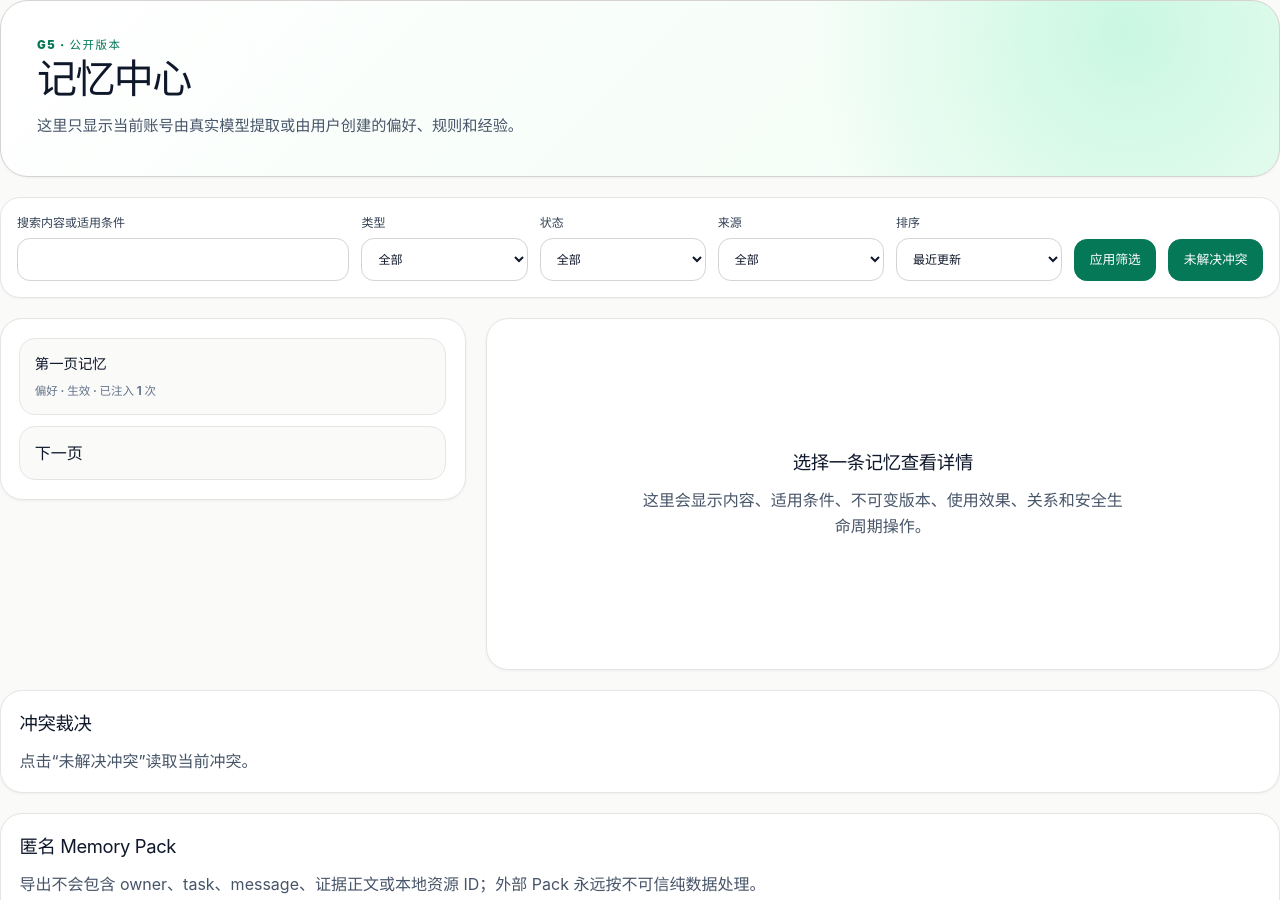
Test: unified G5 Memory Center › appends cursor pages without an effect-driven first-page reload
This screenshot has width=1280, height=900.
Check: the button "第一页记忆 偏好 · 生效 · 已注入 1 次" is shown, box [19,338,446,415]
Step 1. Click the button "下一页" → click(59, 453), box [19,426,446,480]
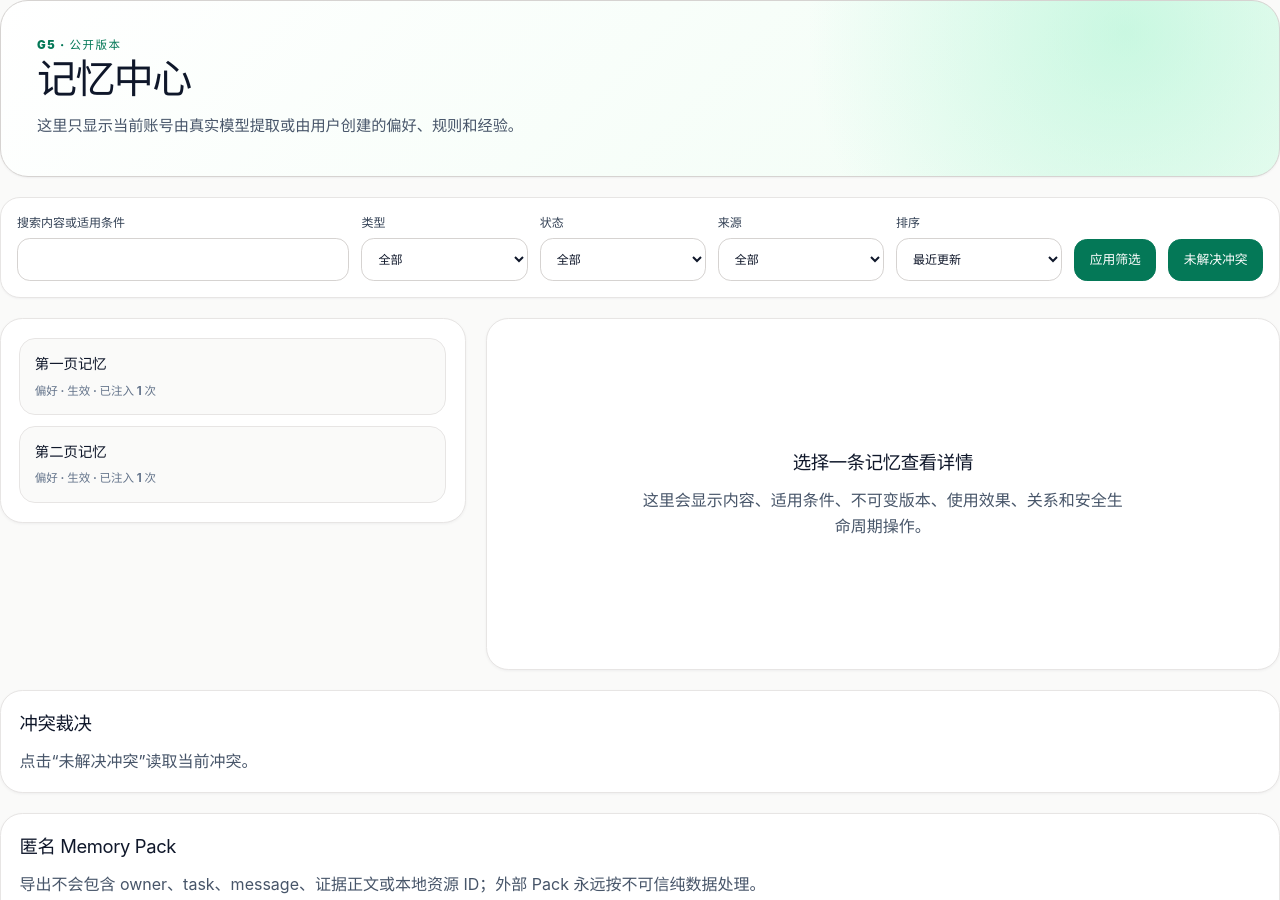
Check: the button "第一页记忆 偏好 · 生效 · 已注入 1 次" is shown, box [19,338,446,415]
Check: the button "第二页记忆 偏好 · 生效 · 已注入 1 次" is shown, box [19,426,446,503]
